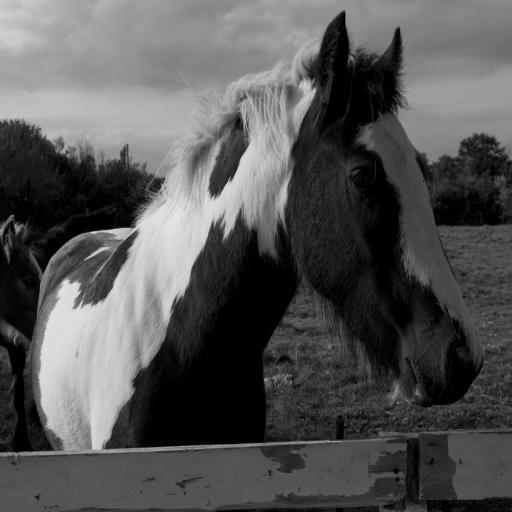horse: (30, 10, 486, 452), (0, 202, 117, 454), (0, 214, 44, 343)
